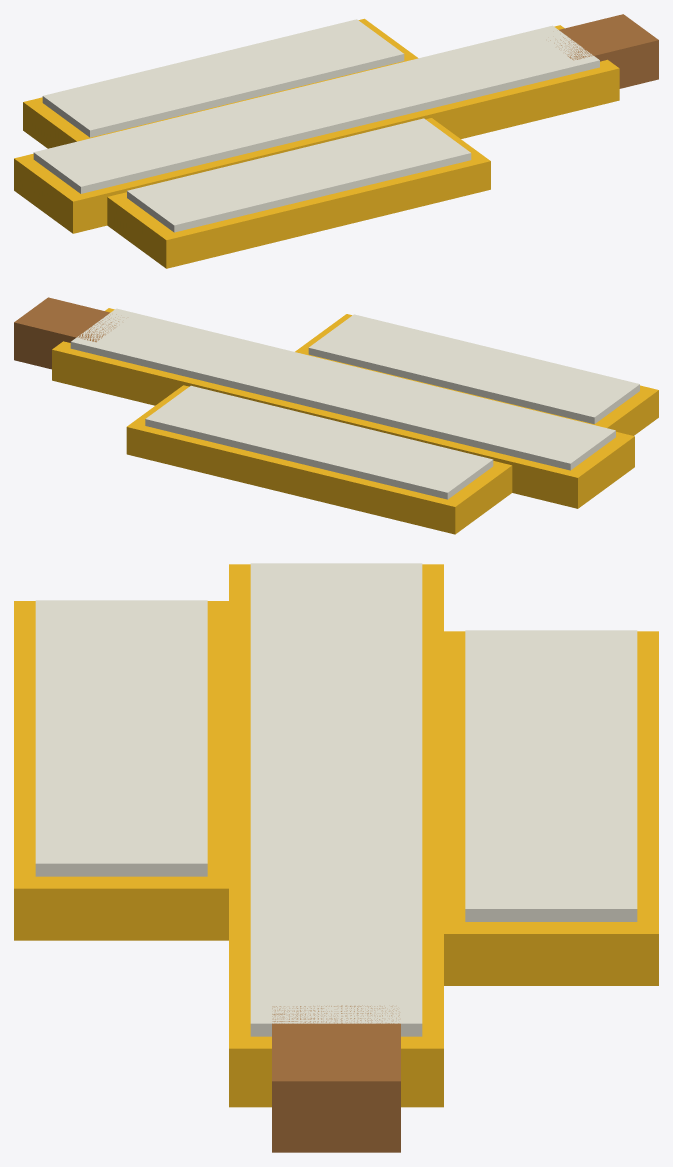
The model's file is banana_peel.glb.
3 renders of one model, top to bottom at view 1: azimuth 30°, elevation 25°; view 2: azimuth 150°, elevation 25°; view 3: azimuth 270°, elevation 25°, orthographic. The views are drawn at different scales.
Visible parts, largest first — view 1: banana_peel; view 2: banana_peel; view 3: banana_peel.
Boxes of the visible parts, bbox=[...] form: banana_peel: bbox=[14, 14, 658, 268]; banana_peel: bbox=[14, 297, 658, 534]; banana_peel: bbox=[14, 563, 658, 1152].
Size of the model in its own units: 0.35 by 0.022 by 0.18.
